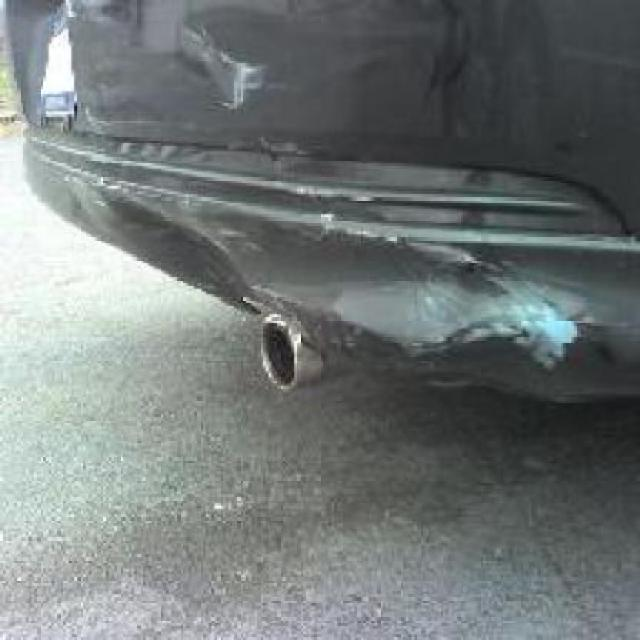dent-or-scratch: (426, 274, 622, 376)
